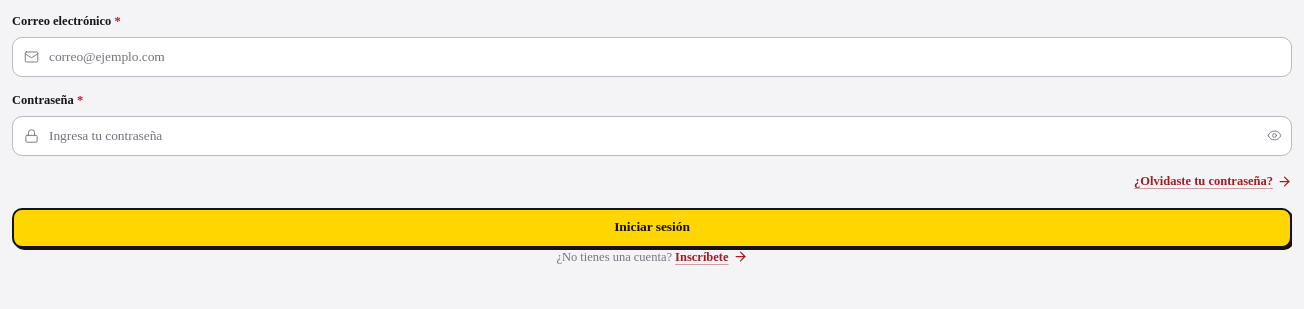
Scenario: LoginPage › failed submission › shows the credentials error inline only, with no toast
Type "user@cataclub.com" into the field labelled "Correo electrónico *" at {"x": 652, "y": 57}, box [12,37,1292,77]
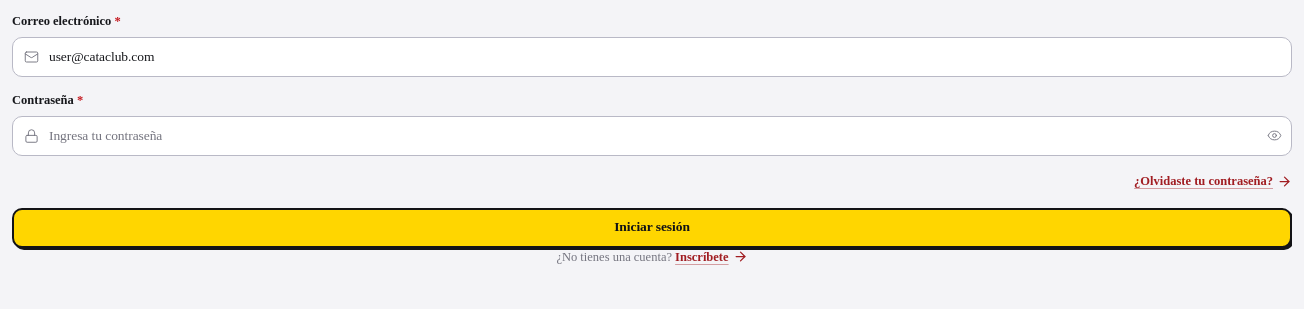
Type "secret123" into the password field labelled "Contraseña *" at {"x": 652, "y": 136}, box [12,116,1292,156]
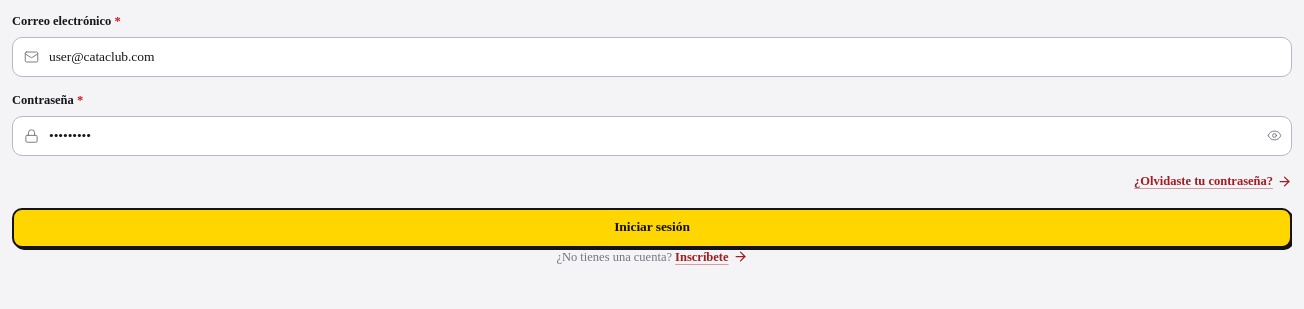
Click the button "Iniciar sesión" at {"x": 652, "y": 228}, box [12,208,1292,248]
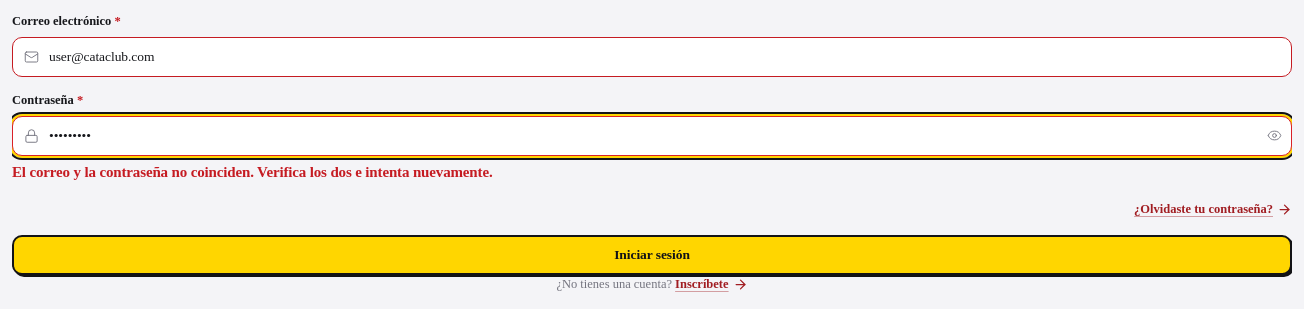
Result: the message with test id "credentials-error" shows "no coinciden" at [12,164,492,180]
